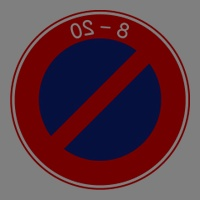Prohibition_sign: (5, 1, 192, 190)
